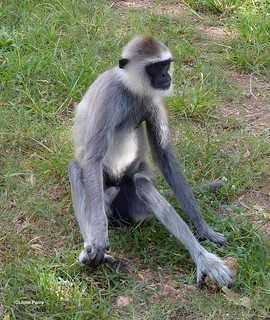monkey: (57, 33, 244, 300)
